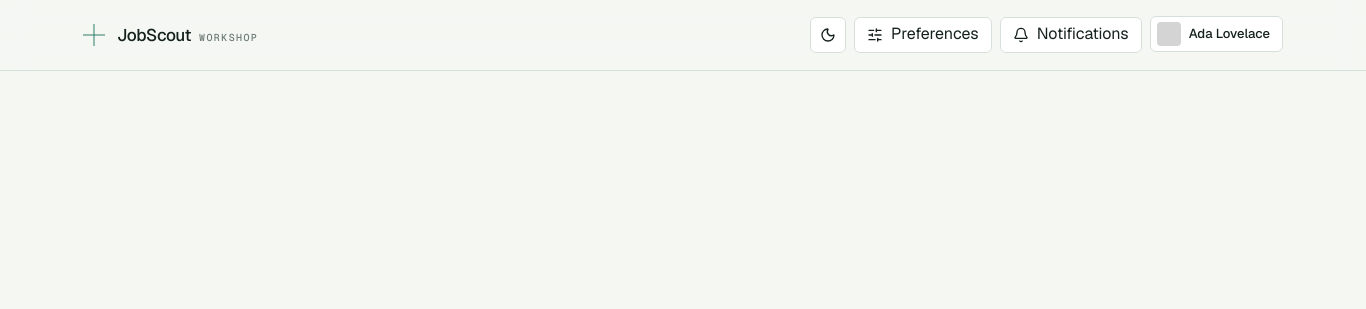
it: DashboardHeader › shows the profile panel from the top bar
Click the button with aria-label "open profile menu": (1216, 34) [1150,16,1283,52]
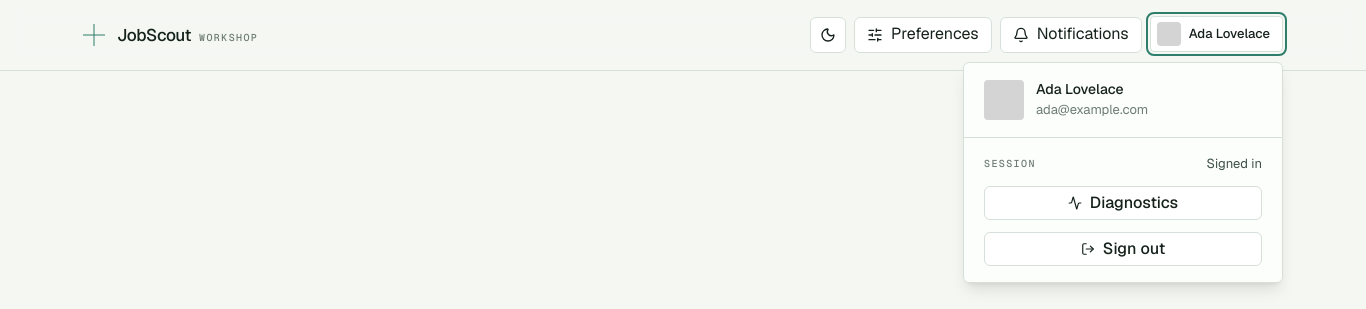
Expected: the element named "Profile panel" is shown, [963,62,1283,283]
Expected: the 2nd text "Ada Lovelace" is shown, [1036,80,1124,98]
Expected: the text "ada@example.com" is shown, [1036,100,1148,121]
